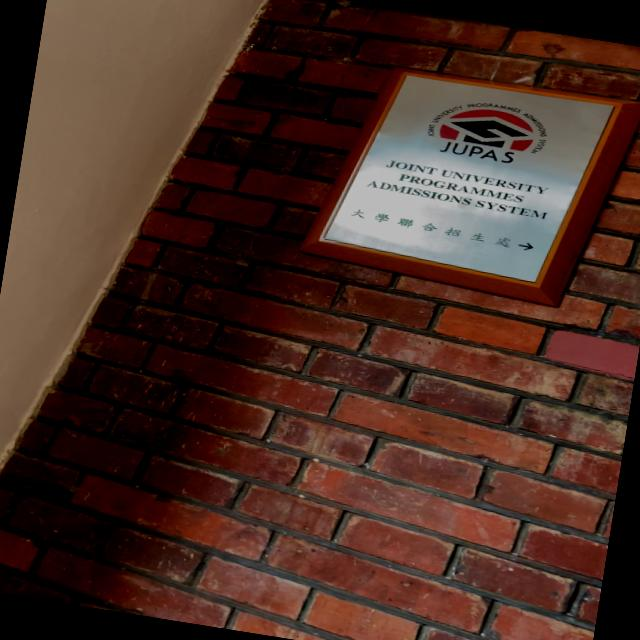jupasOffice: (290, 41, 640, 320)
